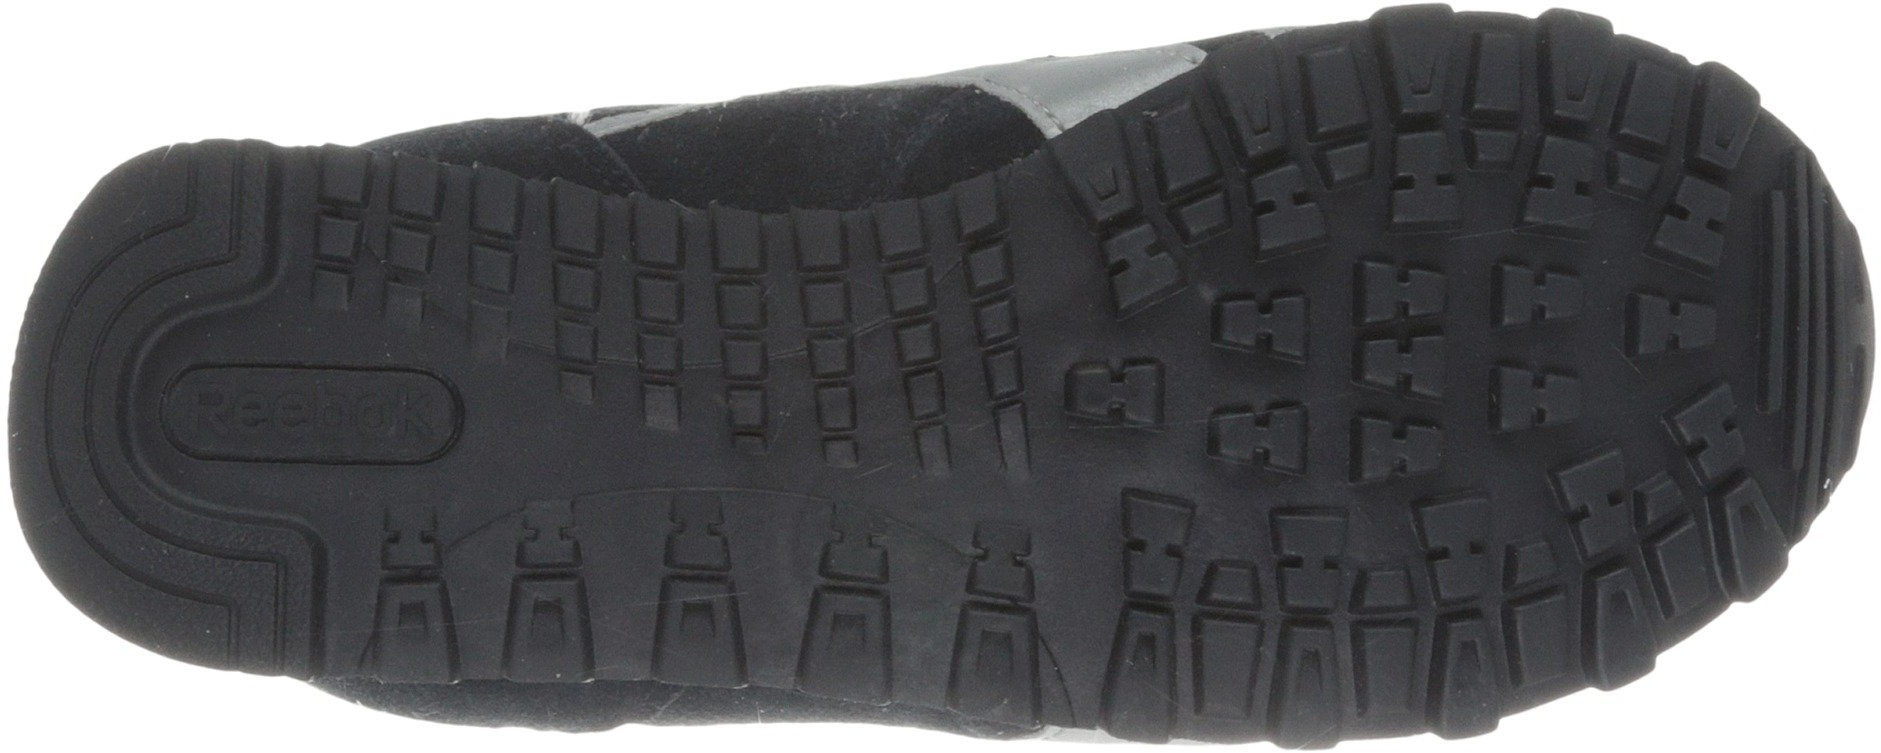bowtie: (1184, 295, 1341, 496), (1341, 241, 1489, 418), (1612, 263, 1735, 394)
line: (42, 281, 132, 372)
quad: (638, 233, 885, 460), (1184, 295, 1341, 496), (318, 170, 491, 332), (896, 217, 1057, 381), (1341, 241, 1489, 418), (1436, 10, 1561, 195), (1141, 94, 1258, 242), (1258, 601, 1372, 749), (1612, 263, 1735, 394)
text: (1184, 295, 1341, 496), (1341, 241, 1489, 418), (1612, 263, 1735, 394), (289, 371, 391, 472), (185, 376, 276, 454)
